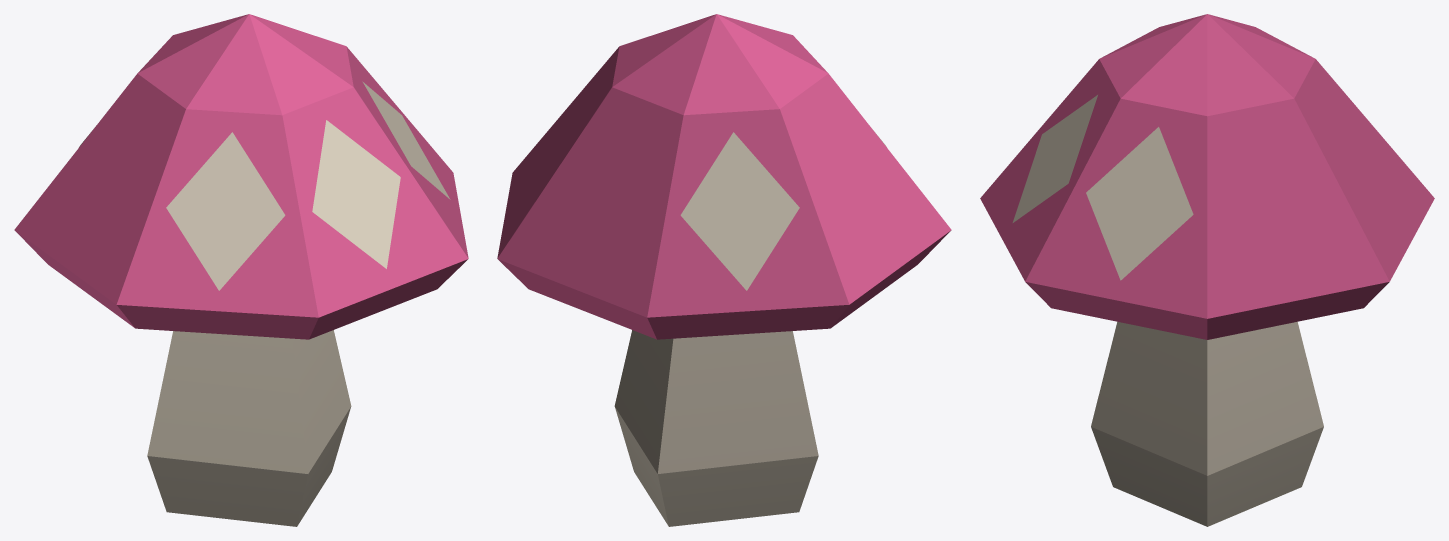
Rendered from mushroom.glb.
The picture shows the model from 3 angles, left to right: view 1: azimuth 30°, elevation 25°; view 2: azimuth 150°, elevation 25°; view 3: azimuth 270°, elevation 25°; orthographic projection.
Parts seen in each view (by area): view 1: root_mesh; view 2: root_mesh; view 3: root_mesh.
Boxes of the visible parts, box(x1,y1,x2,y2) form: root_mesh: box(14, 14, 468, 526); root_mesh: box(497, 14, 951, 526); root_mesh: box(980, 14, 1434, 526).
Size of the model in its own units: 0.2548 by 0.3 by 0.2614.
